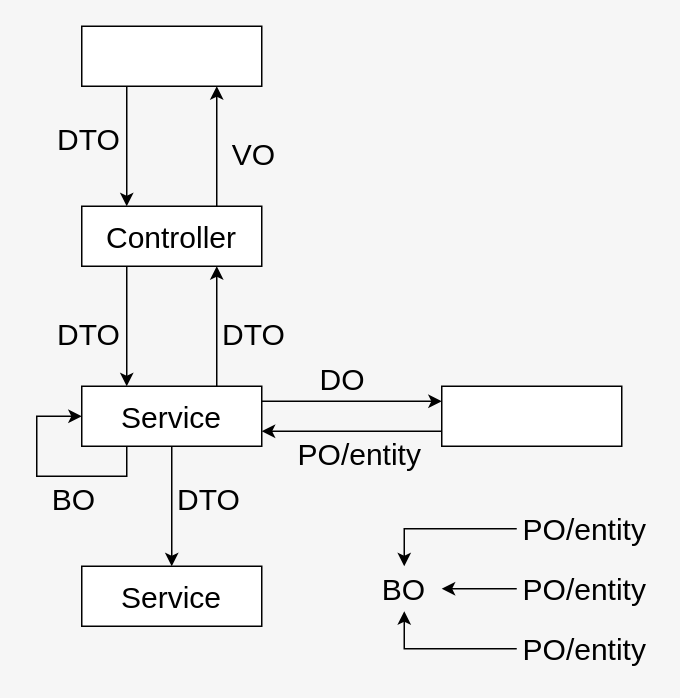
The diagram is 680 pixels wide and 698 high, and some of its shapes have lost their labels. Here are the shapes that lost their labels. From the top down, the centre of each, then its label:
[171,55]: 前端
[531,415]: Dao/Orm
